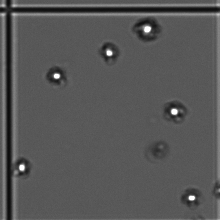Dead Cell: (155, 138, 170, 159)
Living Cell: (132, 14, 161, 48), (13, 153, 33, 184), (44, 63, 67, 88), (164, 97, 184, 124), (179, 187, 202, 208), (99, 41, 117, 67)
